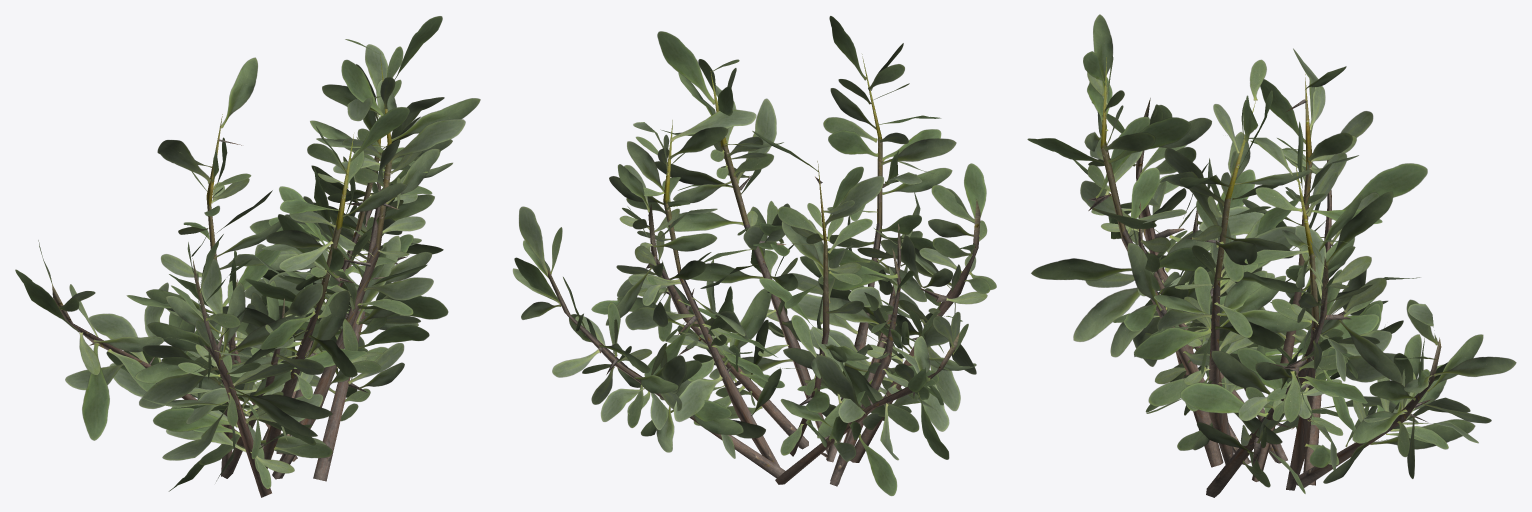
Rendered from nama_othonna_g.glb.
3 renders of one model, left to right at view 1: azimuth 30°, elevation 25°; view 2: azimuth 150°, elevation 25°; view 3: azimuth 270°, elevation 25°, orthographic. The views are drawn at different scales.
Parts seen in each view (by area): view 1: nama_othonna_g; view 2: nama_othonna_g; view 3: nama_othonna_g.
Part boxes in pixels (x1,y1,x2,y2): nama_othonna_g: [15, 16, 480, 497]; nama_othonna_g: [512, 16, 996, 495]; nama_othonna_g: [1027, 14, 1516, 497].
Bounding box in the file's own units: 0.6942 × 0.6417 × 0.6057.
2 materials, 2 textured.
